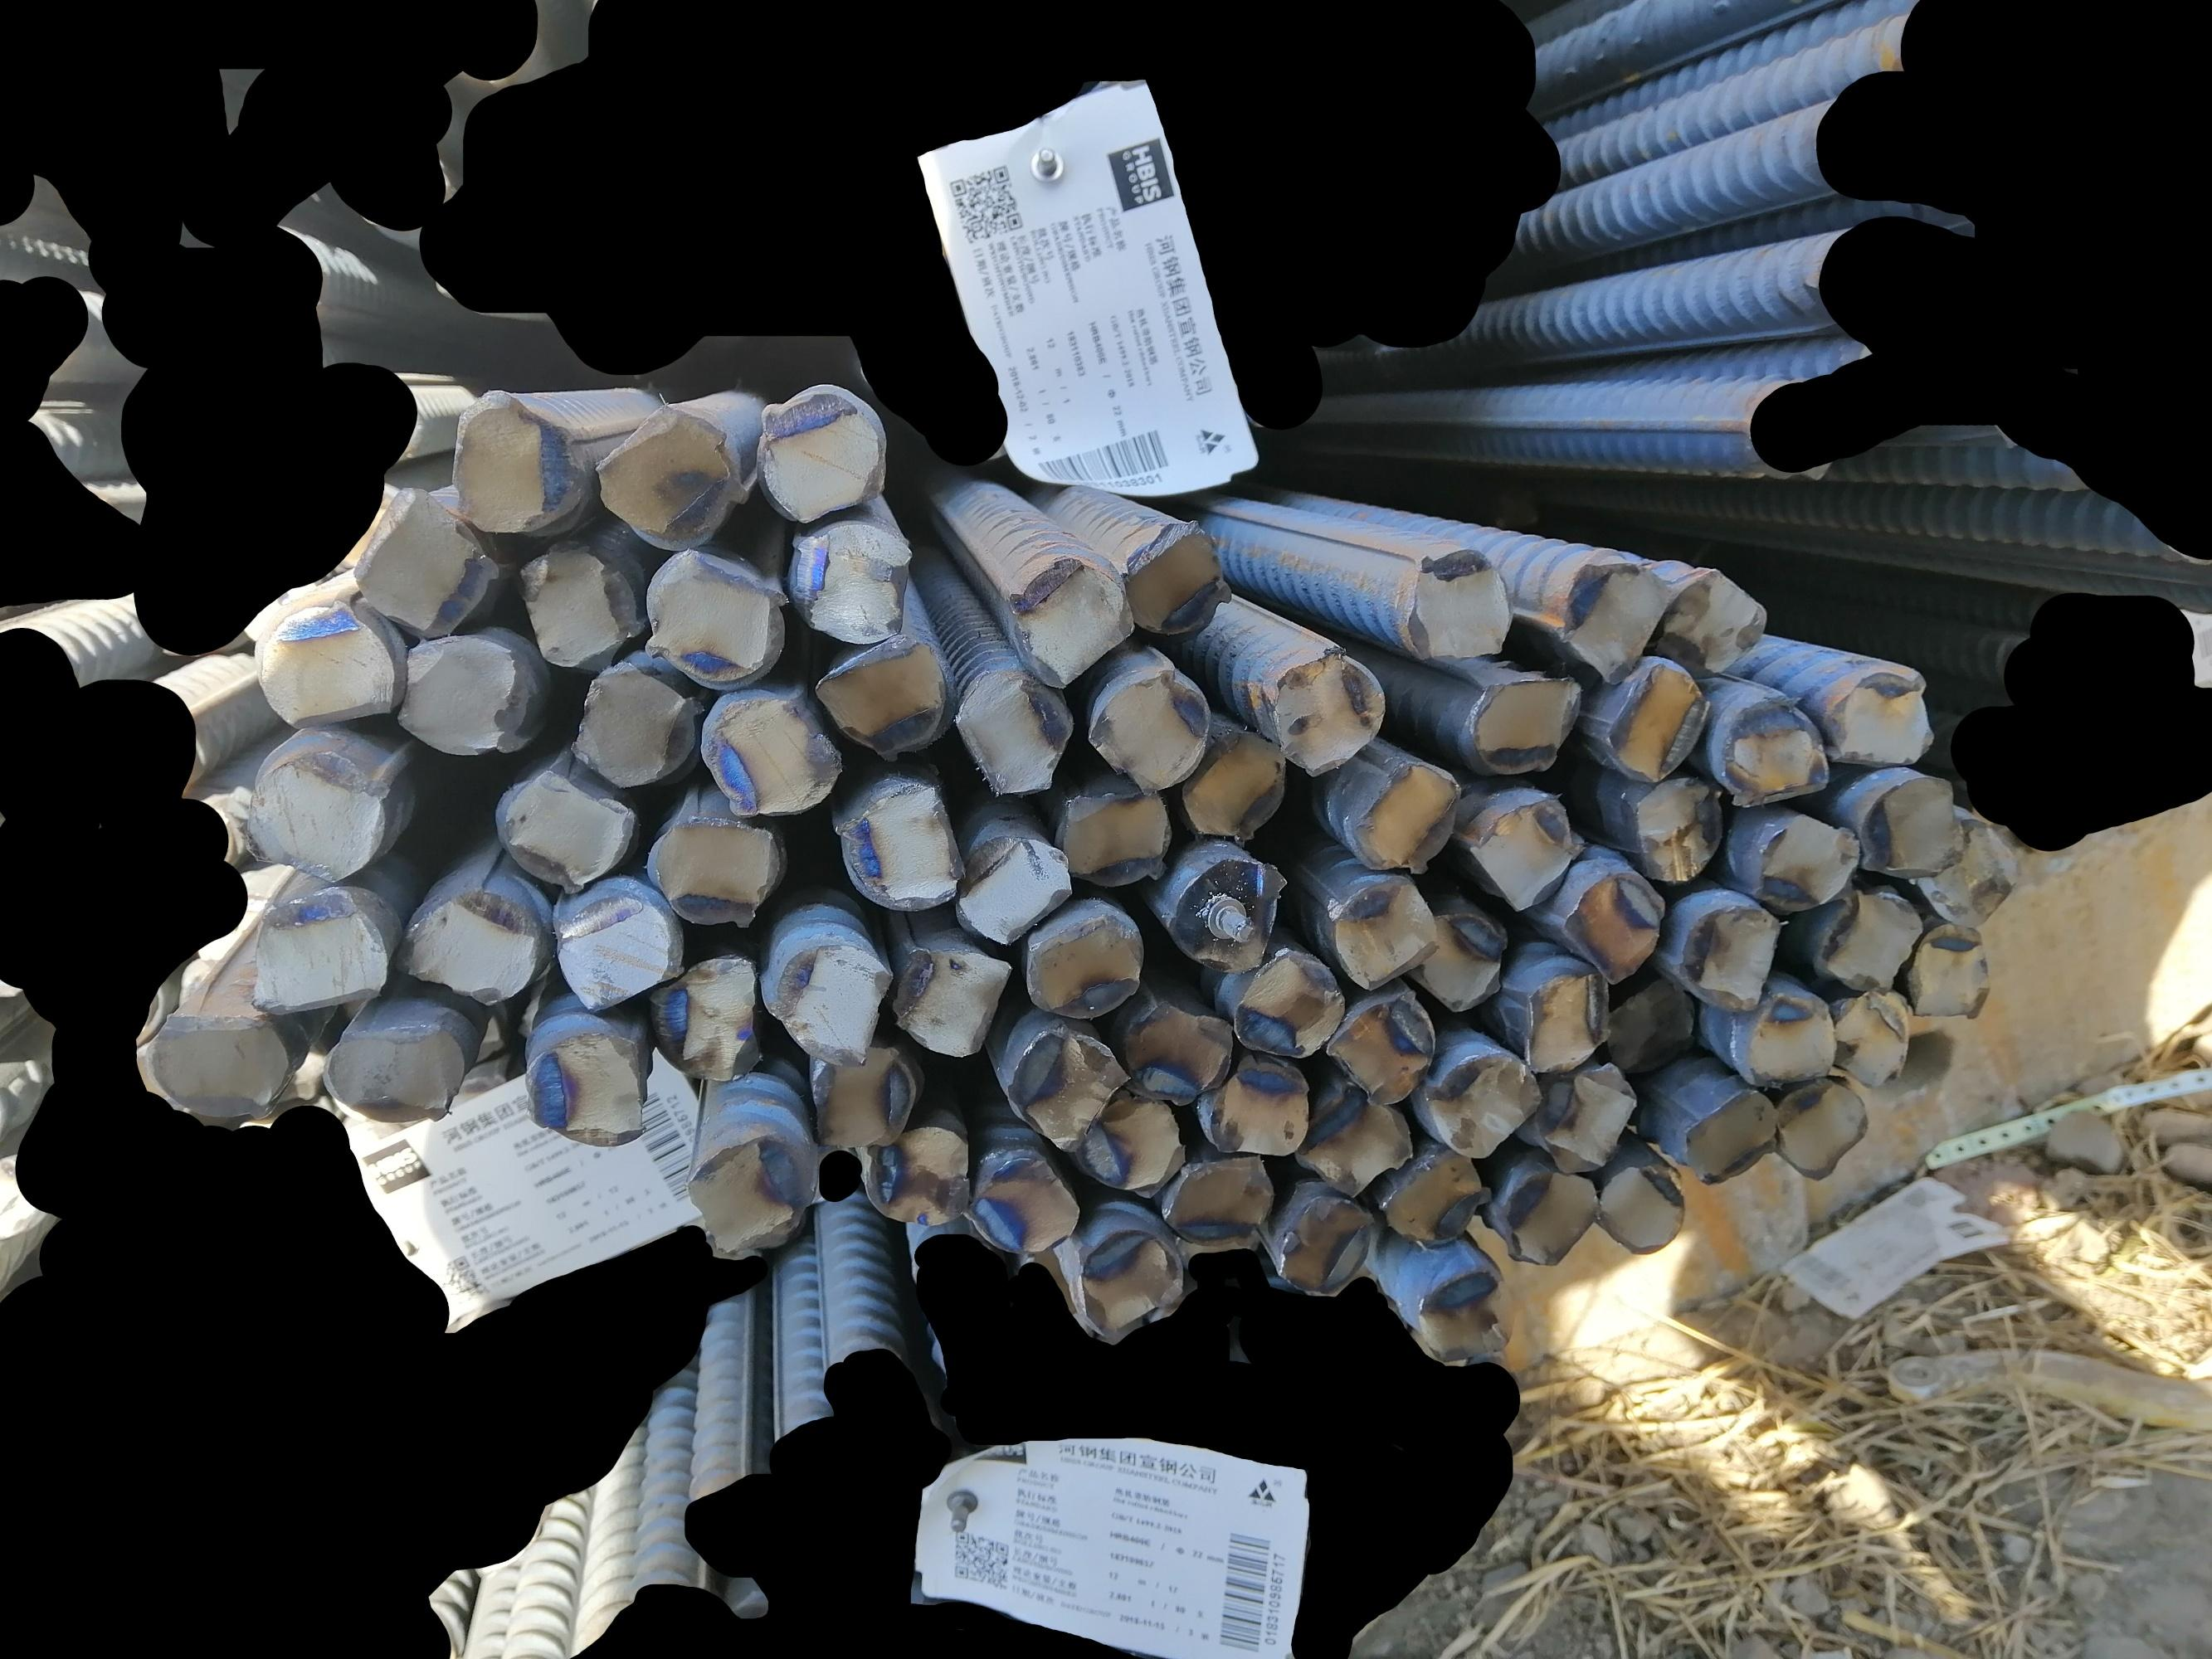bar: (586, 401, 741, 554), (354, 483, 492, 638), (640, 549, 784, 690), (244, 751, 387, 885), (256, 603, 404, 732), (446, 389, 573, 537), (751, 382, 884, 523), (546, 877, 683, 1011), (492, 769, 634, 896), (390, 887, 540, 1007), (702, 690, 842, 819), (507, 542, 640, 674), (837, 781, 964, 917), (1006, 552, 1131, 690), (396, 636, 535, 760), (1161, 849, 1297, 974), (770, 936, 898, 1068), (950, 664, 1075, 796), (816, 634, 948, 760), (253, 890, 389, 1012), (1269, 643, 1389, 781), (786, 521, 915, 645), (645, 812, 779, 931), (650, 948, 765, 1086), (570, 666, 697, 789), (523, 1023, 648, 1147), (153, 1009, 291, 1119), (689, 1131, 811, 1255), (1555, 556, 1672, 685), (324, 1021, 467, 1126), (1469, 781, 1581, 913), (1116, 511, 1225, 645), (1652, 559, 1774, 680), (1095, 664, 1211, 789), (1344, 753, 1462, 875), (1426, 1040, 1544, 1162), (1023, 910, 1150, 1021), (1117, 992, 1236, 1110), (1008, 1025, 1119, 1150), (1598, 657, 1708, 784), (952, 829, 1072, 945), (1400, 540, 1513, 662), (891, 950, 1018, 1056), (1227, 946, 1346, 1060), (1072, 1220, 1182, 1338), (1327, 986, 1435, 1107), (1184, 720, 1288, 843), (1675, 899, 1788, 1012), (967, 1143, 1082, 1255), (1823, 659, 1940, 769), (1330, 870, 1433, 992), (1858, 772, 1966, 884), (1562, 864, 1665, 981), (1055, 789, 1173, 890), (1717, 694, 1835, 795), (861, 1117, 969, 1225), (1469, 671, 1581, 775), (1754, 802, 1858, 913), (1199, 1054, 1311, 1159), (1916, 814, 2015, 931), (1381, 1138, 1487, 1246), (805, 1044, 915, 1148), (1302, 1093, 1414, 1195), (1820, 882, 1919, 997), (1082, 1087, 1187, 1195), (1161, 1148, 1278, 1244), (1272, 1192, 1379, 1297), (1602, 965, 1700, 1079), (1410, 904, 1510, 1014), (1902, 915, 2003, 1021), (1544, 1056, 1635, 1175), (1774, 1072, 1870, 1182), (1520, 957, 1607, 1077), (1680, 1080, 1776, 1187), (1417, 1263, 1518, 1363), (1741, 986, 1837, 1091), (1632, 772, 1722, 882), (1506, 1168, 1600, 1270), (1830, 986, 1919, 1093), (1598, 1159, 1684, 1256)
